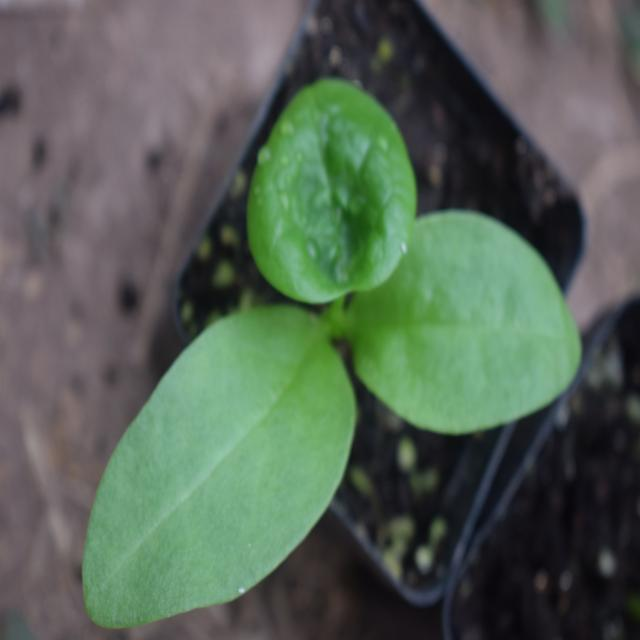Ceylon spinach: (46, 67, 564, 617)
